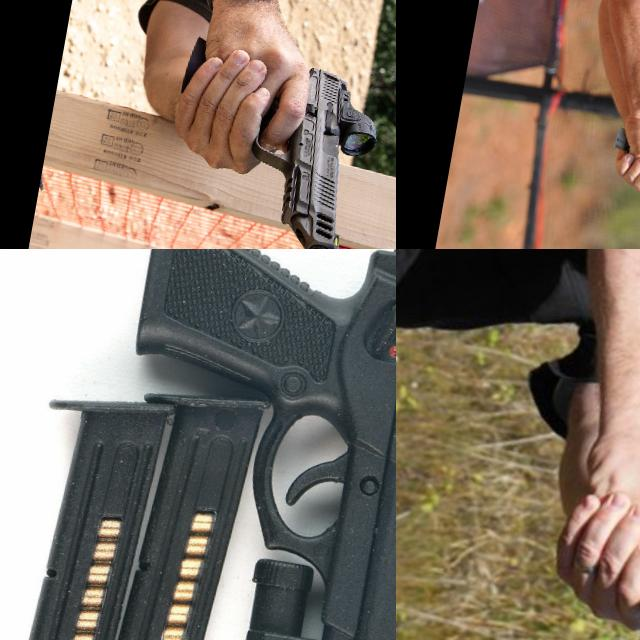handgun: (58, 249, 396, 640), (230, 56, 386, 249)
